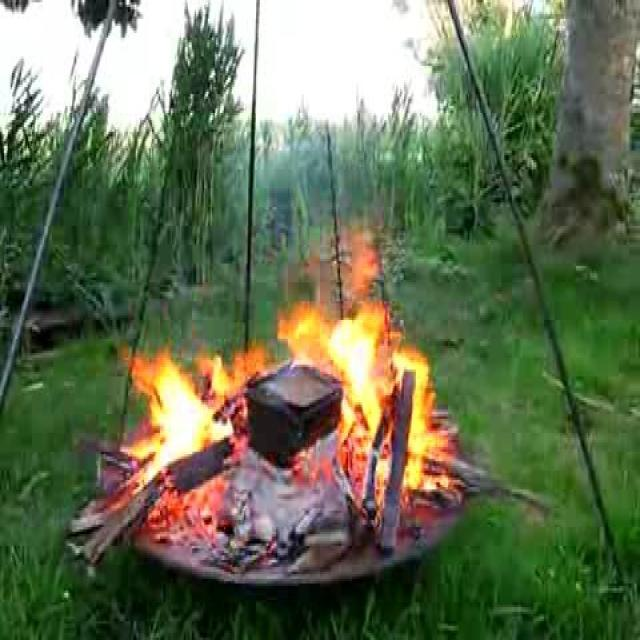Fire: (145, 301, 429, 488)
